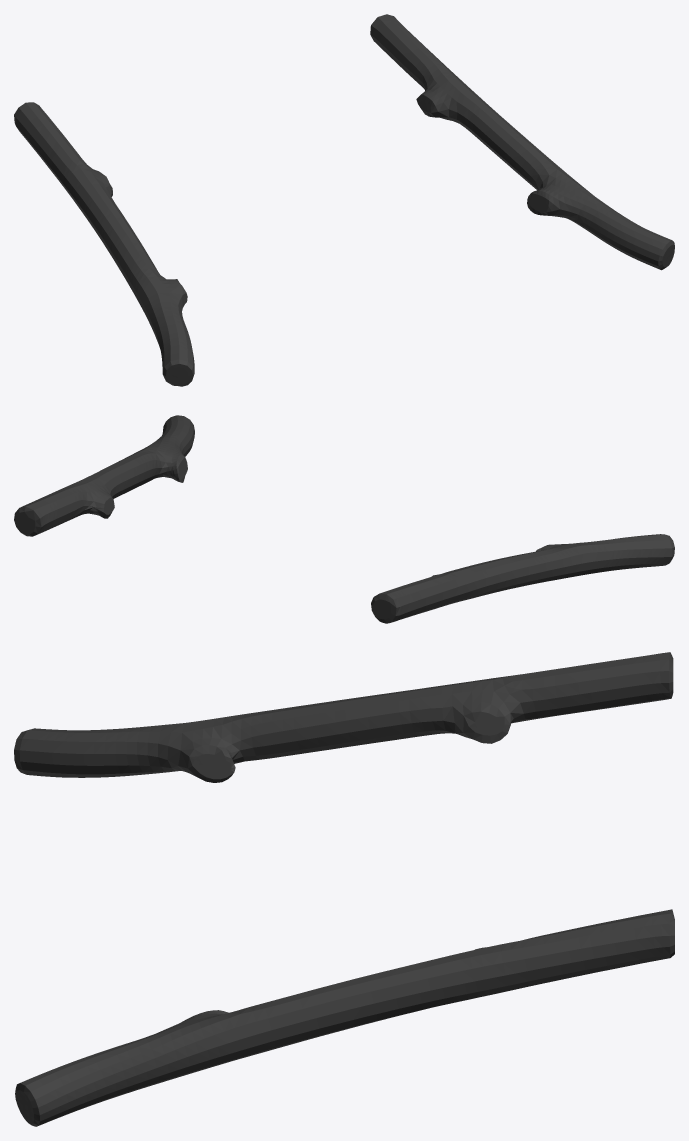
3 views of the same model, one above another, from view 1: azimuth 30°, elevation 25°; view 2: azimuth 150°, elevation 25°; view 3: azimuth 270°, elevation 25° (orthographic). The views are drawn at different scales.
Parts seen in each view (by area): view 1: CN11_low_CN11_low; view 2: CN11_low_CN11_low; view 3: CN11_low_CN11_low.
Part boxes in pixels (box(x1,y1,x2,y2)): CN11_low_CN11_low: box(14, 14, 674, 386); CN11_low_CN11_low: box(14, 415, 674, 623); CN11_low_CN11_low: box(14, 652, 674, 1126).
Size of the model in its own units: 18.63 by 3.91 by 14.07.
Materials: 1 (1 with a texture image).
